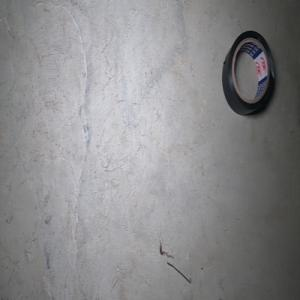Tape: (221, 30, 275, 115)
